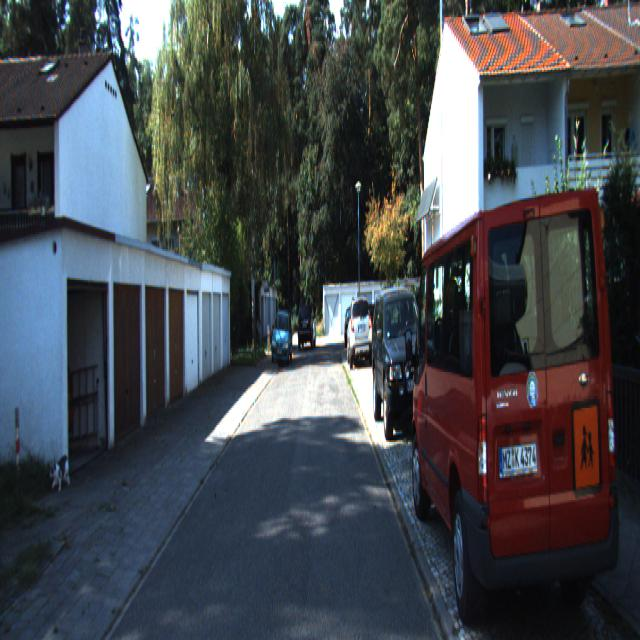Car: (409, 176, 629, 638), (370, 278, 434, 446), (346, 295, 372, 369), (272, 311, 292, 368), (297, 302, 316, 347)
